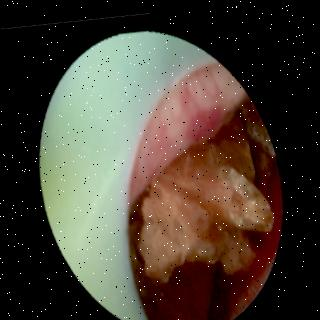stone: (127, 95, 275, 302)
